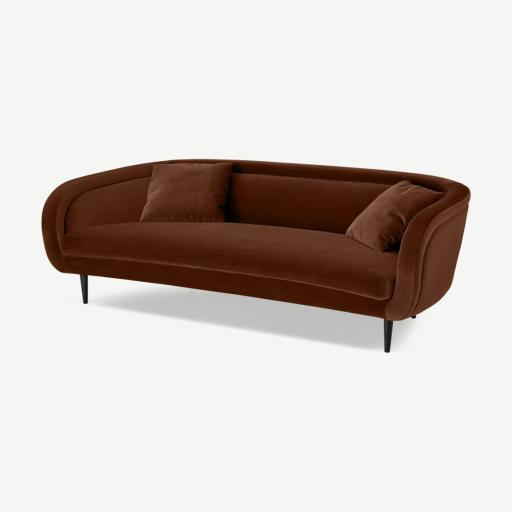back_cushion: (226, 173, 388, 233)
base: (65, 256, 387, 318)
left_arm: (415, 209, 467, 313)
legs: (384, 320, 393, 352), (80, 275, 88, 304)
one-seater: (0, 0, 511, 512)
right_arm: (48, 169, 149, 232)
seat_cushion: (64, 222, 398, 300)
